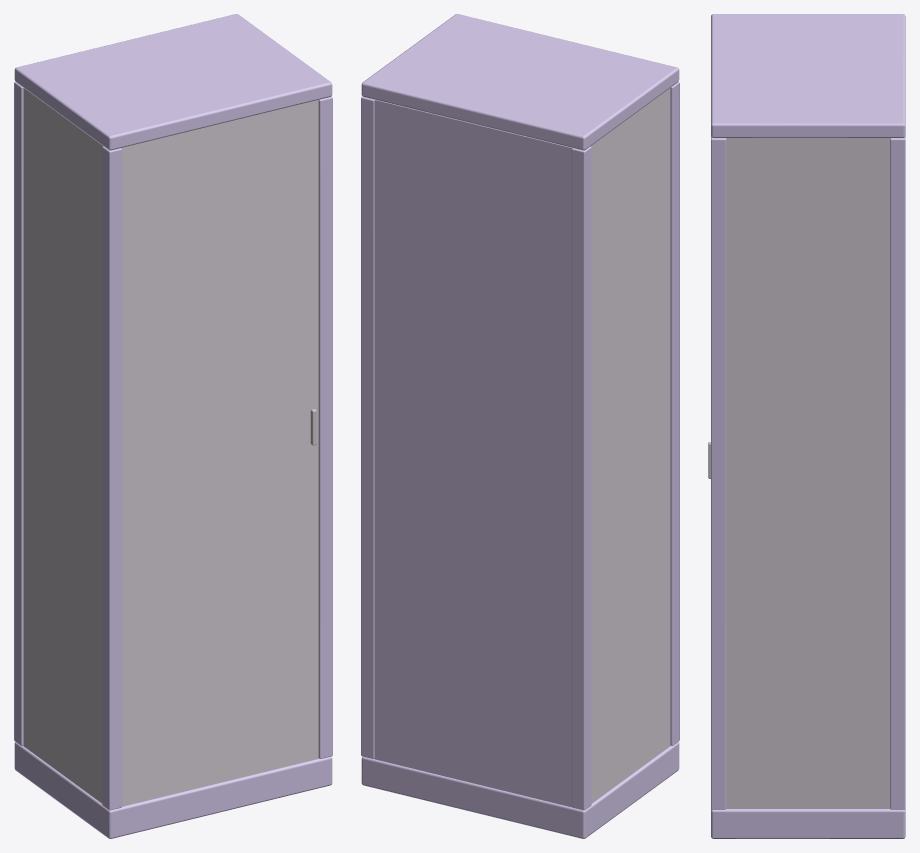
Rendered from display_case.glb.
3 views of the same model, side by side, from view 1: azimuth 30°, elevation 25°; view 2: azimuth 150°, elevation 25°; view 3: azimuth 270°, elevation 25° (orthographic).
Visible parts, largest first — view 1: display_case; view 2: display_case; view 3: display_case.
Part boxes in pixels (bbox=[...]): display_case: bbox=[14, 14, 332, 838]; display_case: bbox=[361, 14, 679, 838]; display_case: bbox=[708, 14, 905, 838].
Bounding box in the file's own units: 0.4 × 1.2 × 0.3.
